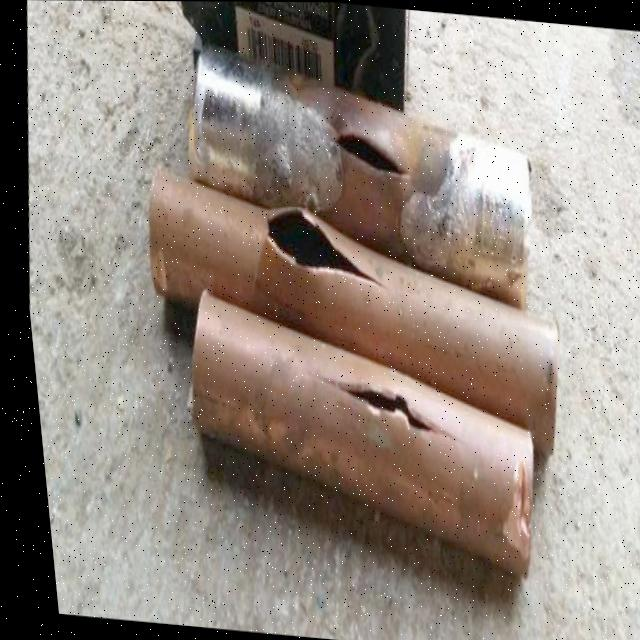crack: (300, 367, 457, 450)
rupture: (255, 199, 388, 300), (326, 122, 414, 189)
